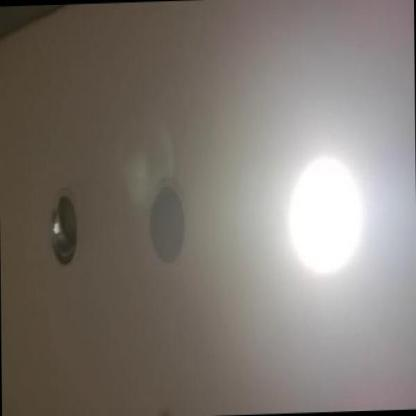light_off: (40, 174, 92, 281)
